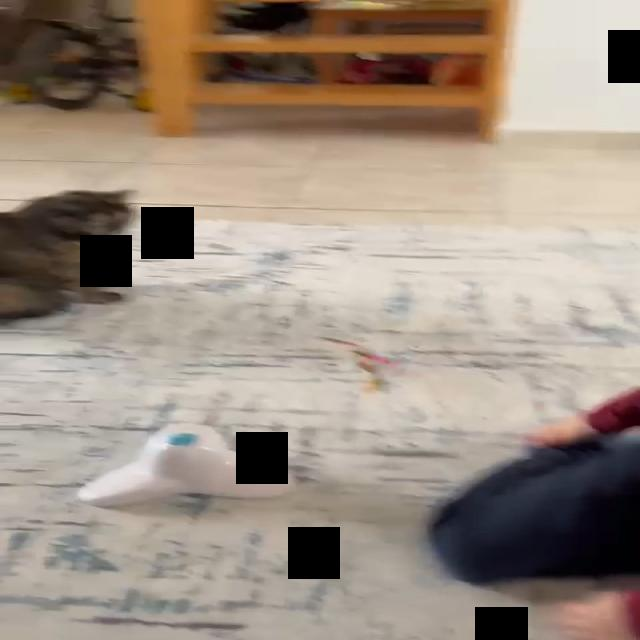authorized: (0, 187, 139, 321)
